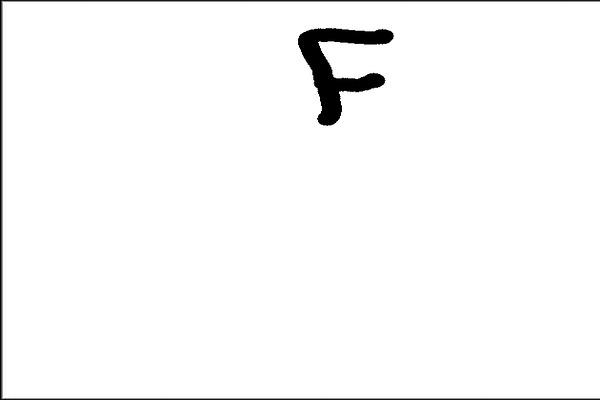F: (294, 23, 397, 128)
